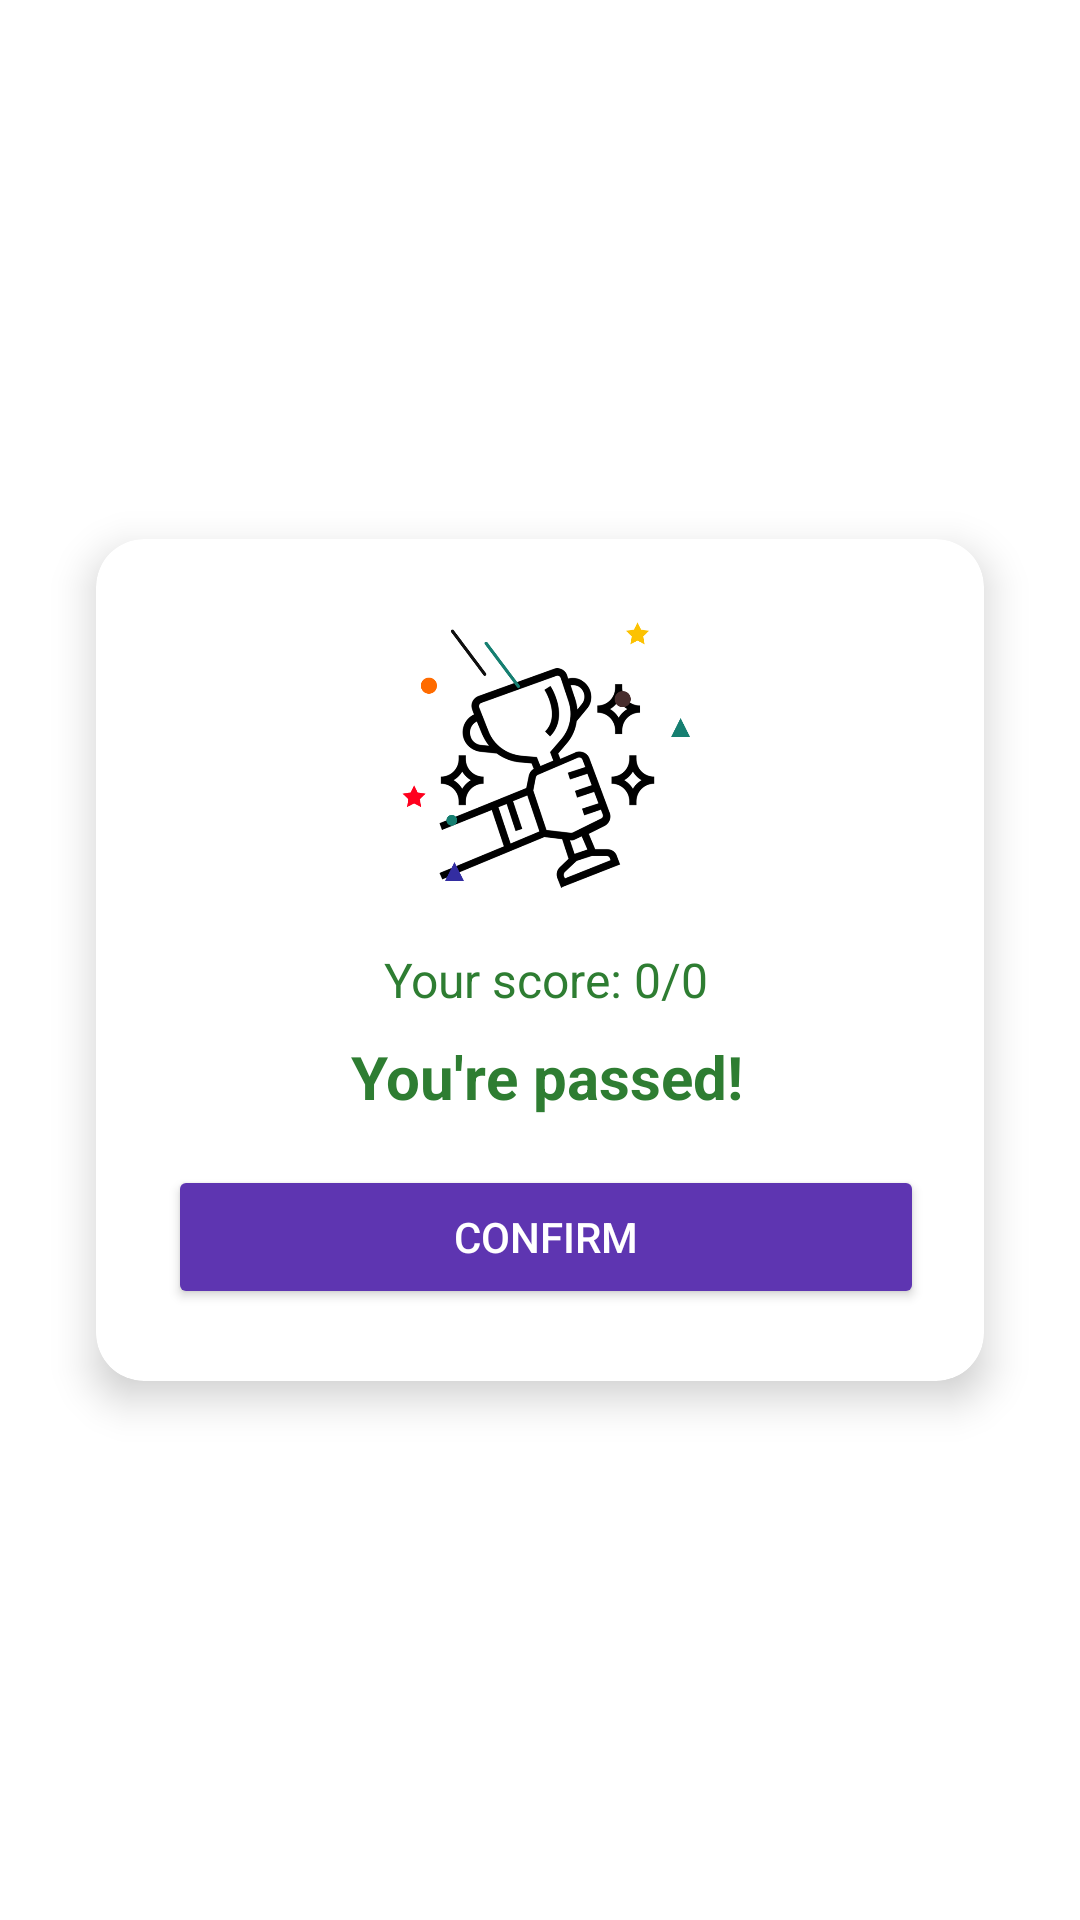

Named icons in this screenshot (1080px×1920px) and their bounding boxes, region(x1, y1, x2, y2):
emoji quizfinish: region(402, 622, 690, 888)
